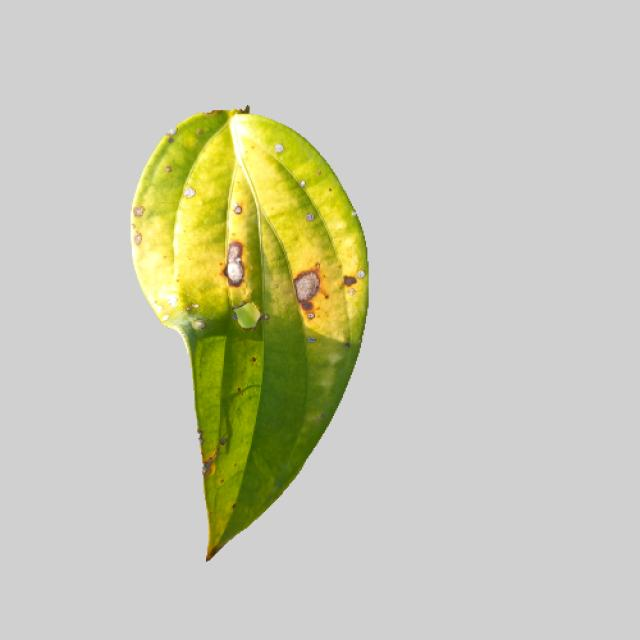leaf-blight: (112, 109, 372, 560)
